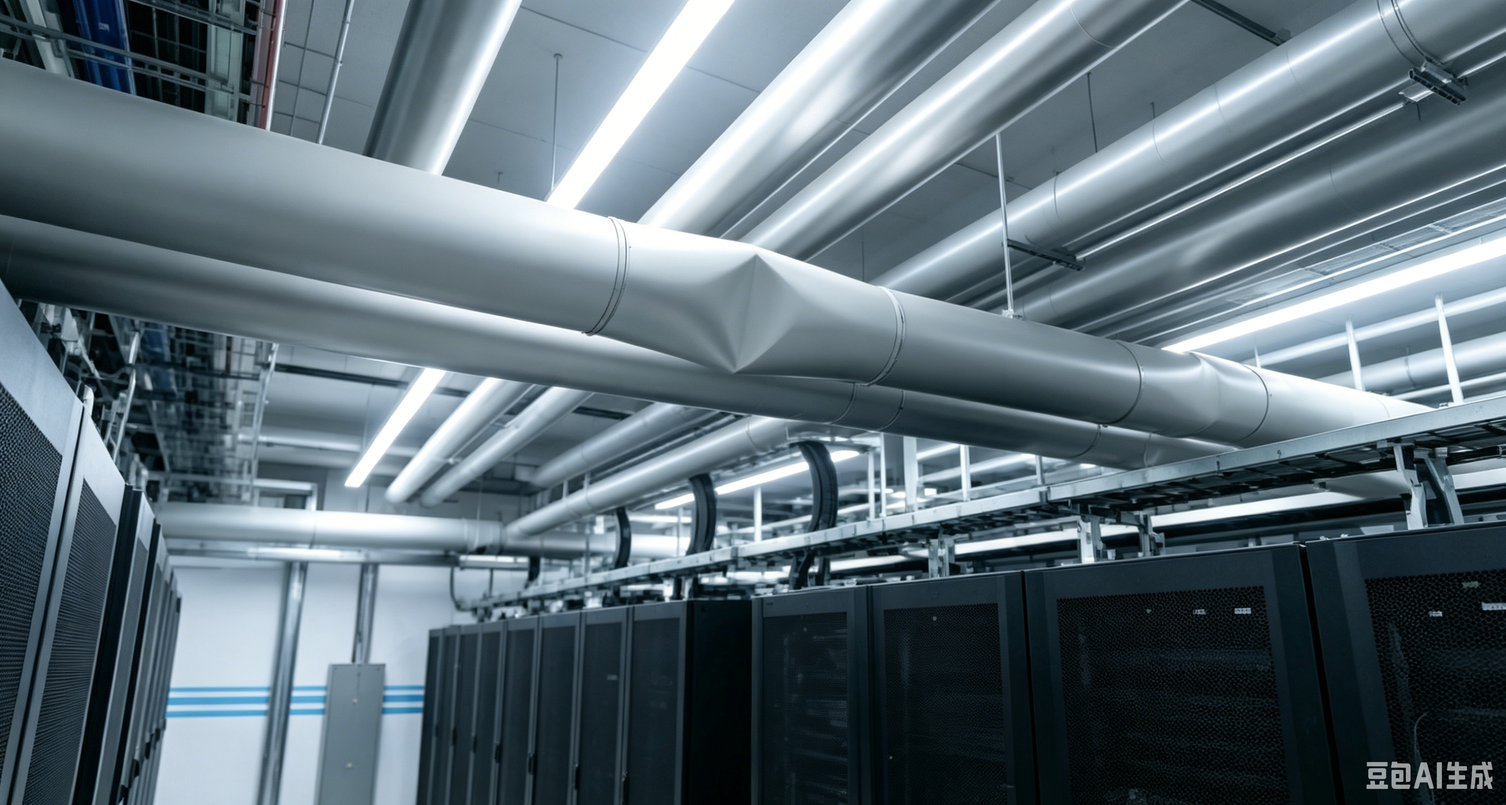Leakage: (683, 238, 808, 380)
